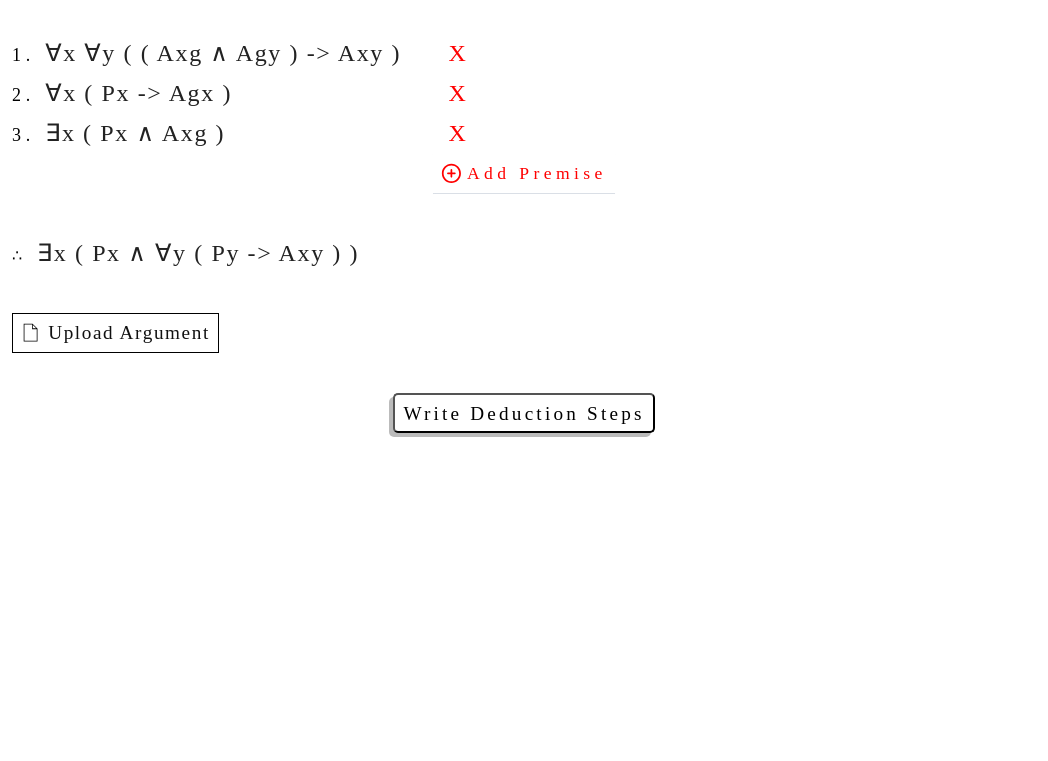
Test: Quantifiable Logic Body › checks for deduction steps on click
The width and height of the screenshot is (1048, 761).
Click the button with aria-label "submit argument". click: (524, 413)
box: [393, 393, 655, 433]
(page scrolled)
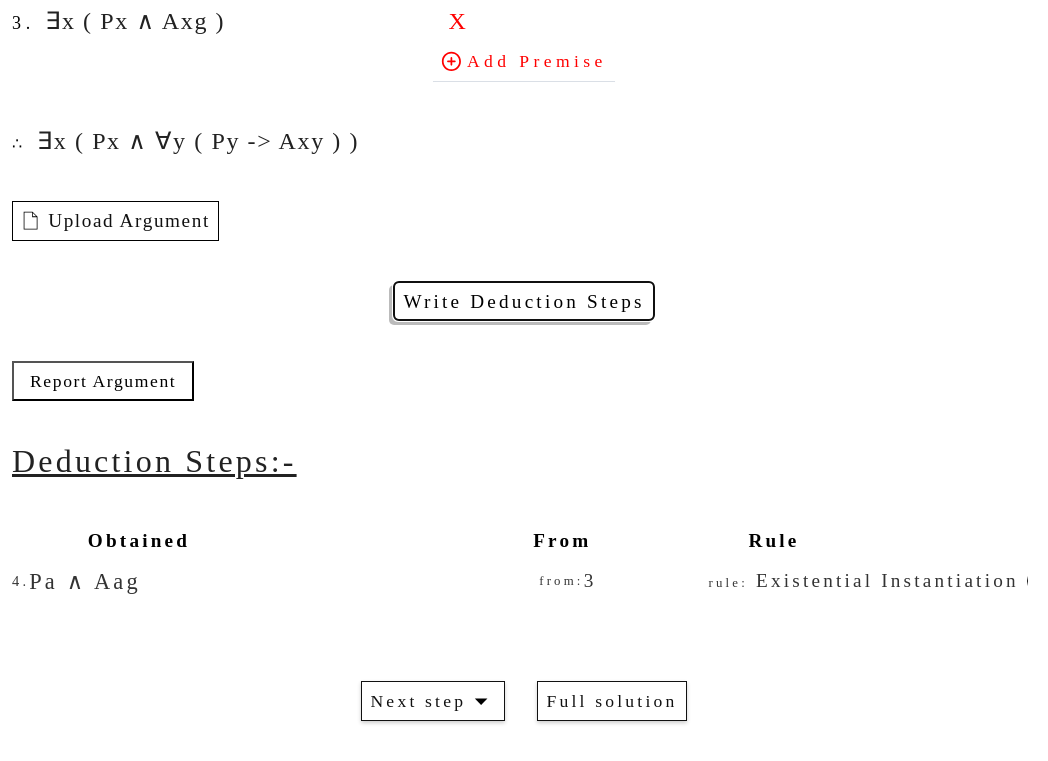
Now the button with aria-label "show entire solution" is shown
Click the button with aria-label "show entire solution". click: (612, 701)
box: [538, 681, 687, 721]
(page scrolled)
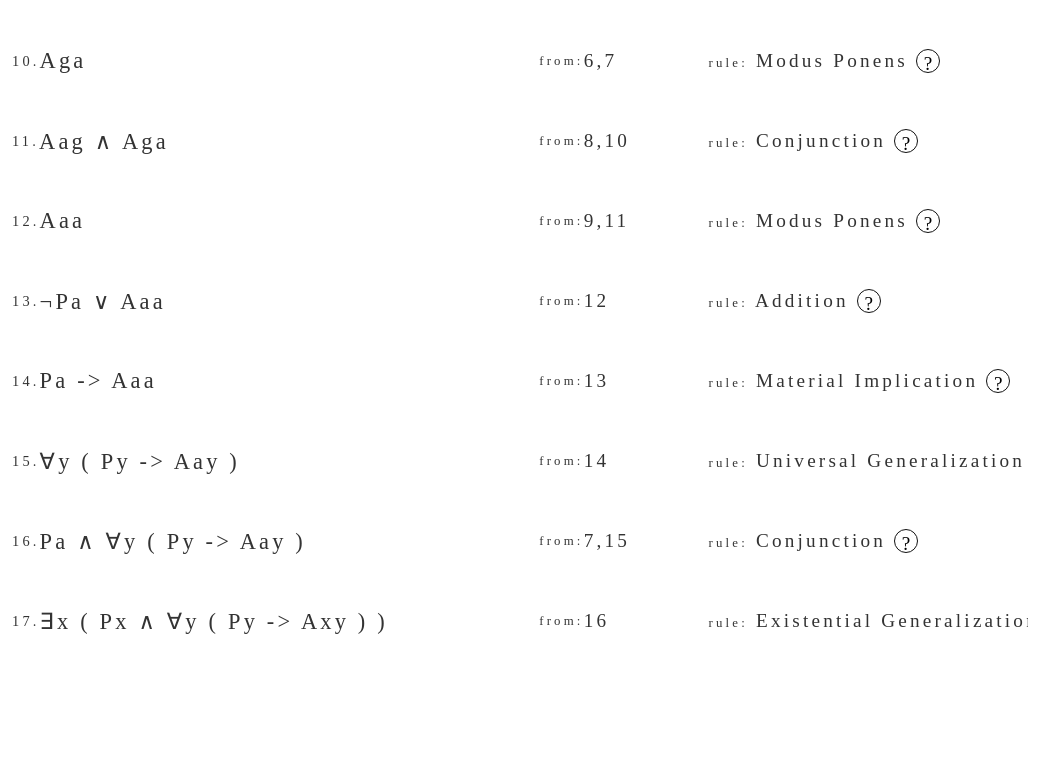
Now the text "∃x ( Px ∧ ∀y ( Py -> Axy ) )" is shown, box [40, 608, 388, 634]
Now the row "10. Aga from: 6,7 rule: Modus Ponens ?" is shown, box [12, 41, 1028, 81]
Now the row "11. Aag ∧ Aga from: 8,10 rule: Conjunction ?" is shown, box [12, 121, 1028, 161]
